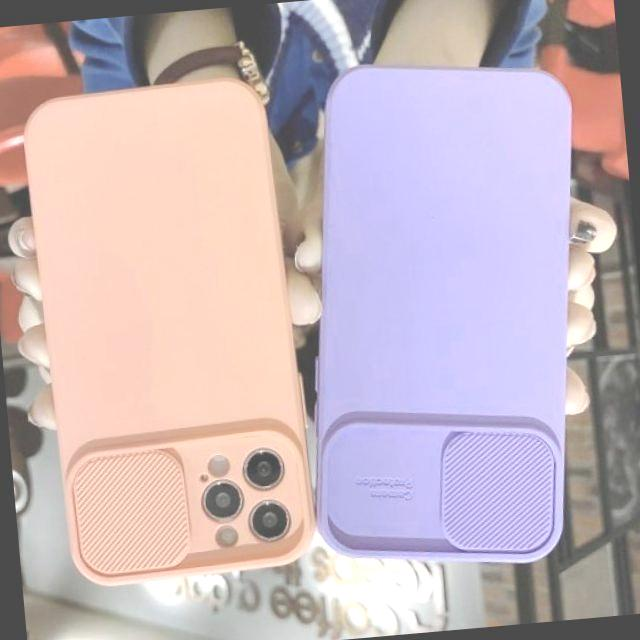lens: (199, 439, 291, 537)
phone: (21, 76, 317, 594), (311, 56, 574, 568)
